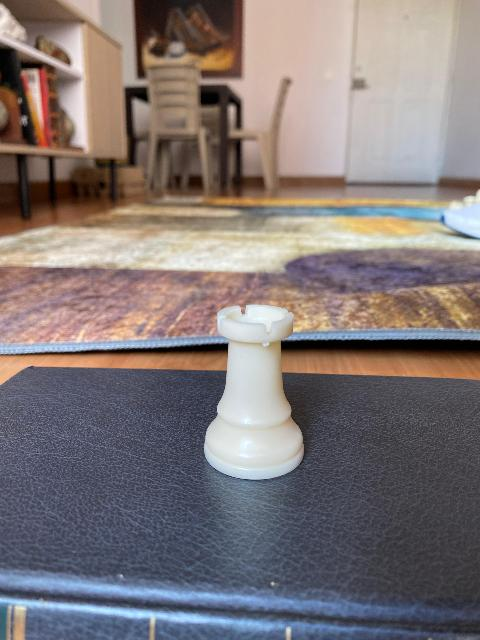white-rook: (203, 302, 305, 480)
